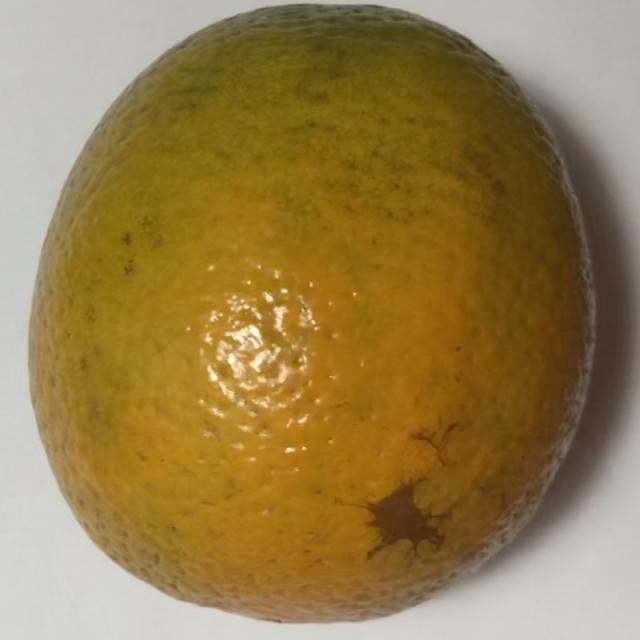blackspot: (22, 14, 615, 629)
